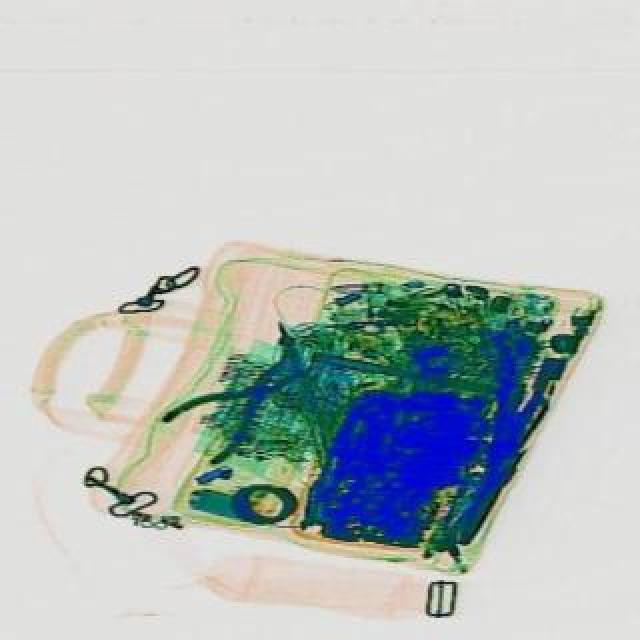wrench: (156, 336, 320, 472)
